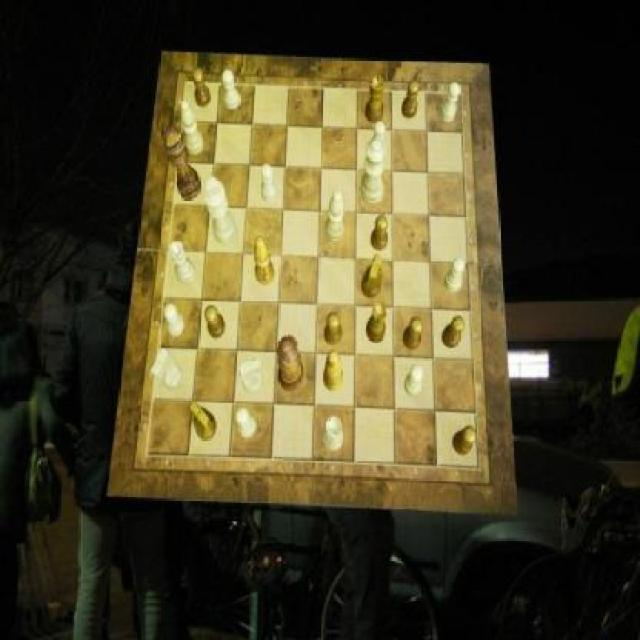bishop: (253, 237, 274, 286), (323, 351, 343, 392)
black-bishop: (165, 125, 202, 199)
black-king: (190, 402, 218, 442), (362, 254, 382, 298)
black-knight: (192, 68, 212, 108), (452, 424, 476, 456), (204, 304, 226, 338), (443, 317, 466, 349), (403, 317, 423, 351), (402, 80, 419, 118), (371, 216, 388, 252), (325, 312, 342, 346)
black-pawn: (277, 335, 305, 393)
black-queen: (364, 77, 384, 125), (366, 303, 387, 345)
black-rook: (182, 100, 204, 156), (326, 191, 346, 243)
white-bishop: (204, 177, 238, 246)
white-king: (150, 348, 182, 390), (238, 358, 262, 394)
white-knight: (440, 83, 460, 123), (166, 303, 186, 337), (446, 257, 466, 291), (222, 71, 239, 111), (236, 406, 256, 439), (260, 165, 277, 202), (371, 122, 386, 159), (405, 365, 422, 397)
white-pawn: (360, 138, 386, 204)
white-queen: (169, 240, 196, 284), (321, 415, 344, 450)
